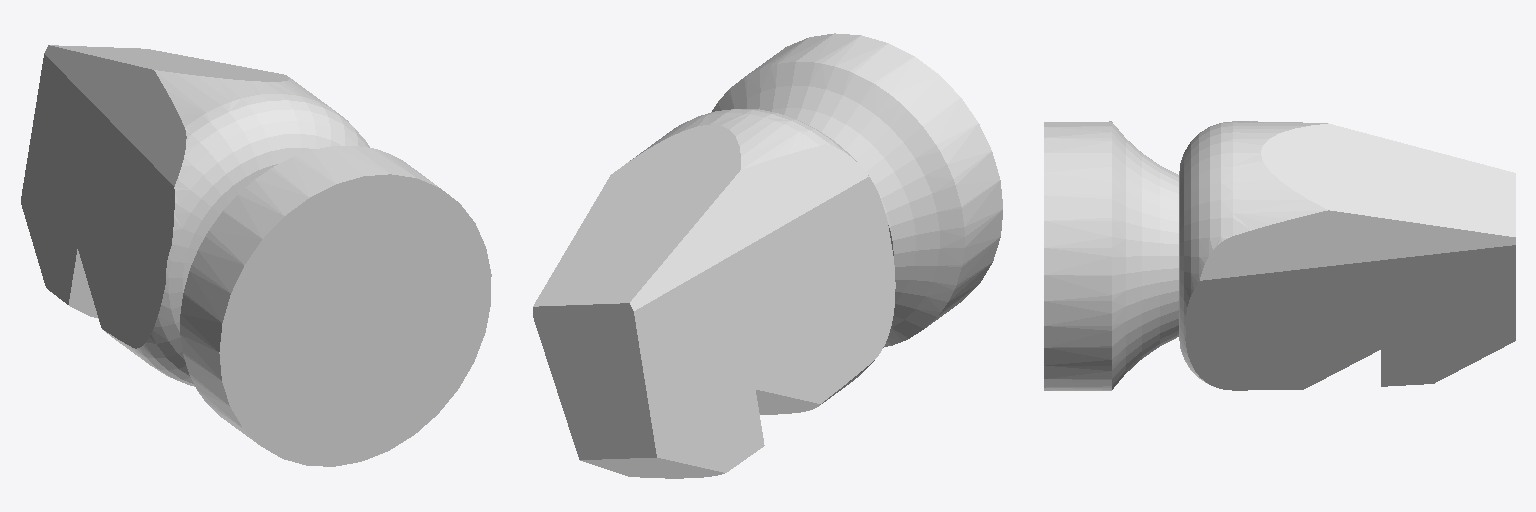
URDF robot description (jaran):
<?xml version="1.0" encoding="utf-8"?>
<robot name="jaran">
  <link name="base_link">
    <inertial>
      <origin xyz="4.79904925043684E-06 0.0174746975557619 1.79671111603941E-05" rpy="0 0 0" />
      <mass value="0.0120164146277105" />
      <inertia
        ixx="1.96991136313716E-06" ixy="4.61982066145161E-09" ixz="-3.04490688432334E-08"
        iyy="6.48940622104474E-07" iyz="1.72089600129848E-08"
        izz="1.86463419010765E-06" />
    </inertial>
    <visual>
      <origin xyz="0 0 0" rpy="0 0 0" />
      <geometry>
        <mesh filename="package://board_new/meshes/jaran1.STL" />
      </geometry>
      <material name="">
        <color rgba="0.9 0.9 0.9 1" />
      </material>
    </visual>
    <collision>
      <origin xyz="0 0 0" rpy="0 0 0" />
      <geometry>
        <mesh filename="package://board_new/meshes/jaran1.STL" />
      </geometry>
    </collision>
  </link>
  <gazebo reference="base_link">
    <mu1>0.5</mu1>
    <mu2>0.5</mu2>
    <material>Gazebo/Grey</material>
  </gazebo>
</robot>

--- What the picture shows (computed from the rendered views, not written in the file) ---
3 views of the same robot in one strip: view 1: azimuth 30°, elevation 25°; view 2: azimuth 150°, elevation 25°; view 3: azimuth 270°, elevation 25° (orthographic).
Robot: jaran — 1 links, 0 joints (none); root link base_link; default pose: every joint at zero.
Visible links, largest first — view 1: base_link; view 2: base_link; view 3: base_link.
Link boxes in pixels (<box>): base_link: <box>21,45,491,466</box>; base_link: <box>533,33,1002,478</box>; base_link: <box>1044,121,1515,390</box>.
Size in the robot's own frame: 0.024 by 0.042 by 0.024 metres.
Meshes: 1 distinct files referenced, 1 mesh visuals loaded (1 binary STL).
